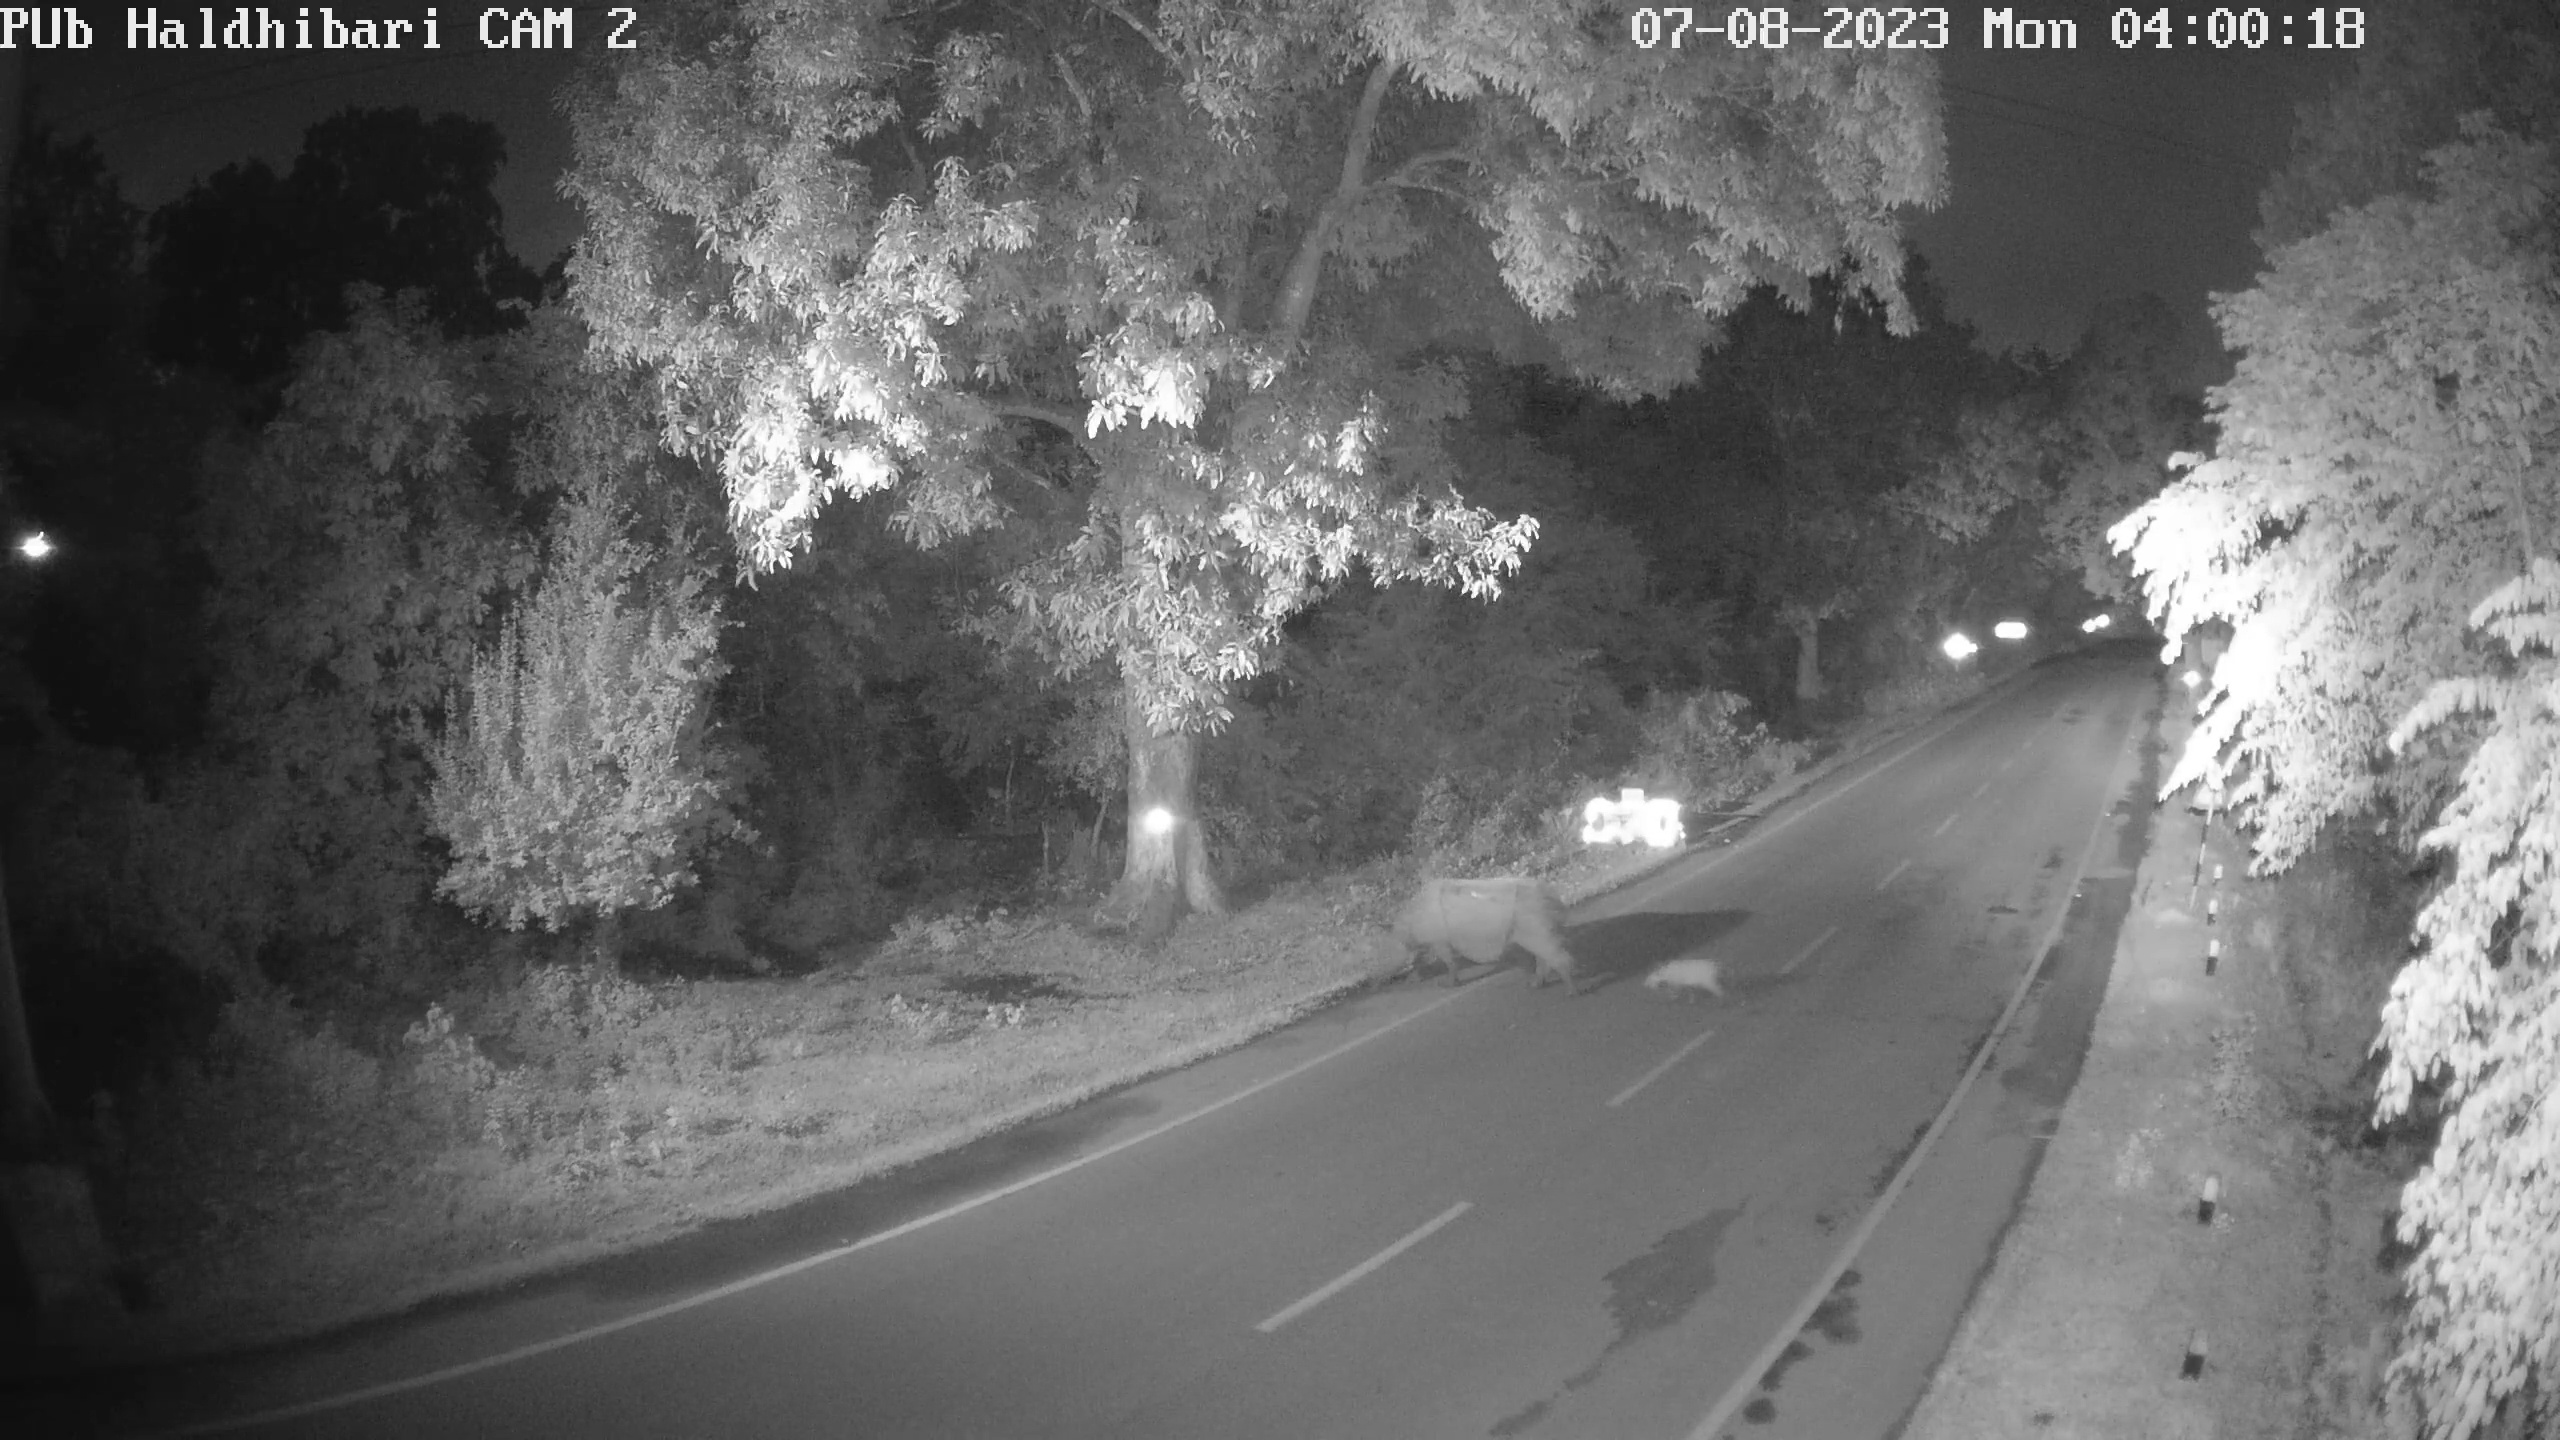rhinos: (1382, 870, 1577, 990), (1632, 953, 1734, 1007)
